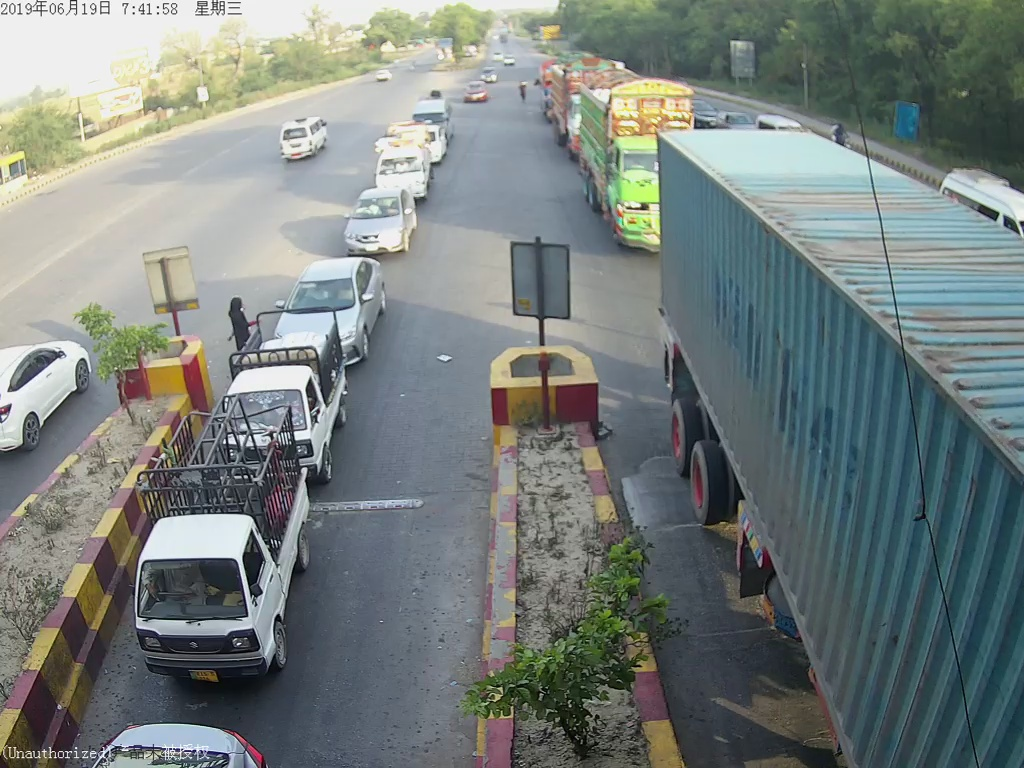Cat-1: (128, 414, 319, 700)
Cat-4: (582, 81, 660, 256)
